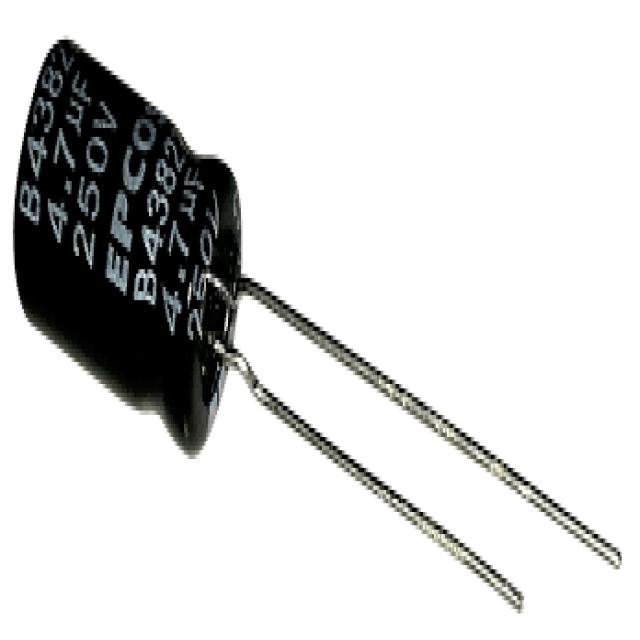Capacitor: (11, 40, 623, 614)
